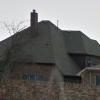Chimney: (26, 5, 47, 34)
